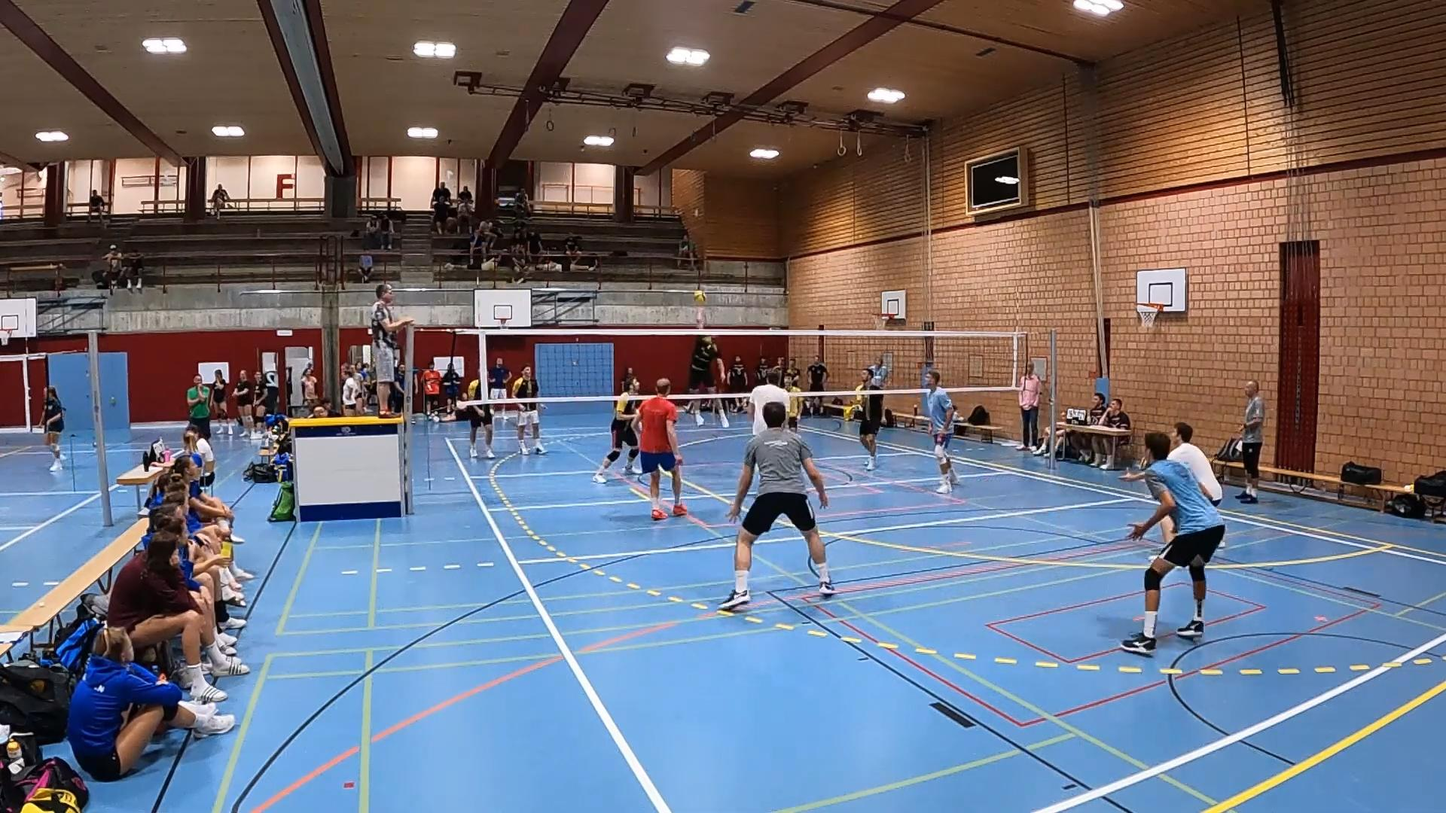attacco: (684, 289, 733, 432)
